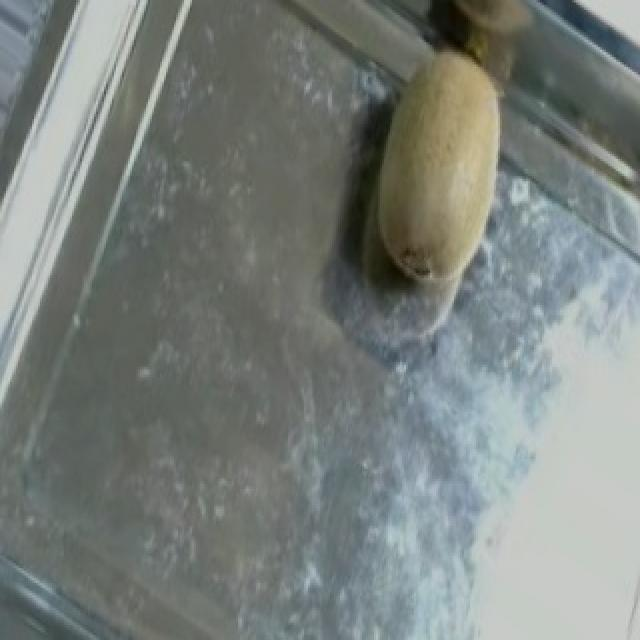Fruit: (322, 10, 544, 312)
